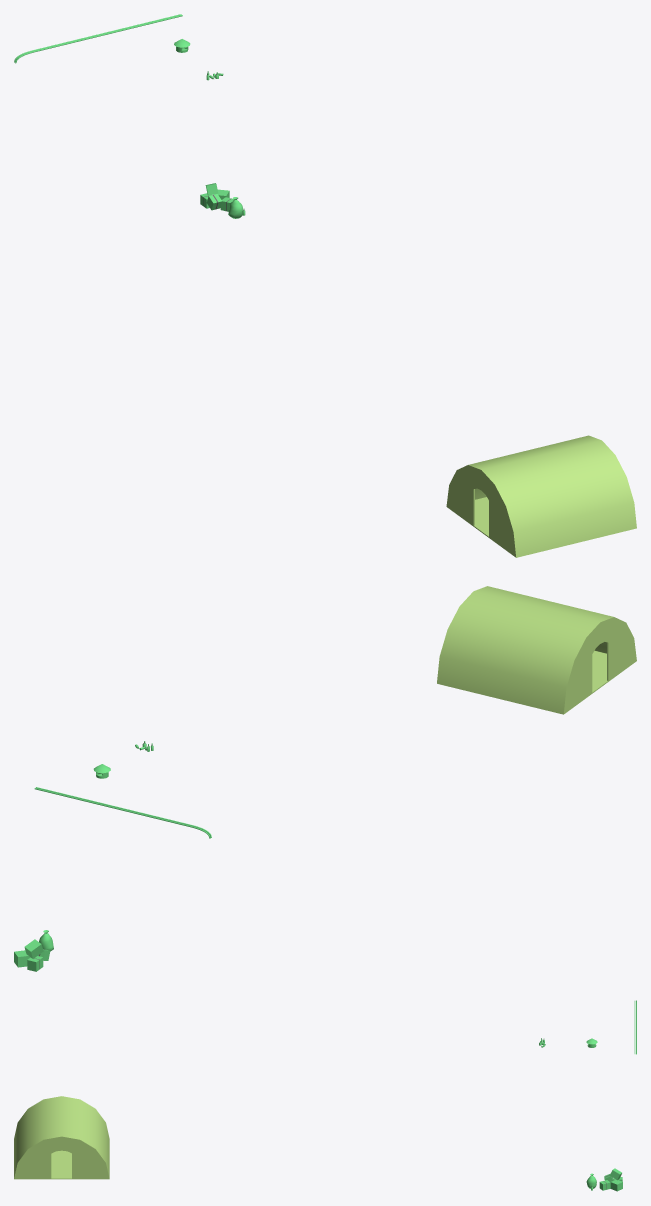
File: ObstaclesTrébuche.fbx
3 renders of one model, top to bottom at view 1: azimuth 30°, elevation 25°; view 2: azimuth 150°, elevation 25°; view 3: azimuth 270°, elevation 25°, orthographic. The views are drawn at different scales.
Visible parts, largest first — view 1: Serre; view 2: Serre, Cartons, Tuyaux; view 3: Serre, Cartons.
Boxes of the visible parts, x1,y1,x2,y2 form: Serre: (446, 435, 636, 557); Serre: (437, 586, 636, 714); Cartons: (14, 939, 50, 971); Tuyaux: (34, 787, 211, 838); Serre: (14, 1096, 109, 1179); Cartons: (599, 1168, 622, 1191).
Bounding box in the file's own units: 675 × 613 × 2637.
